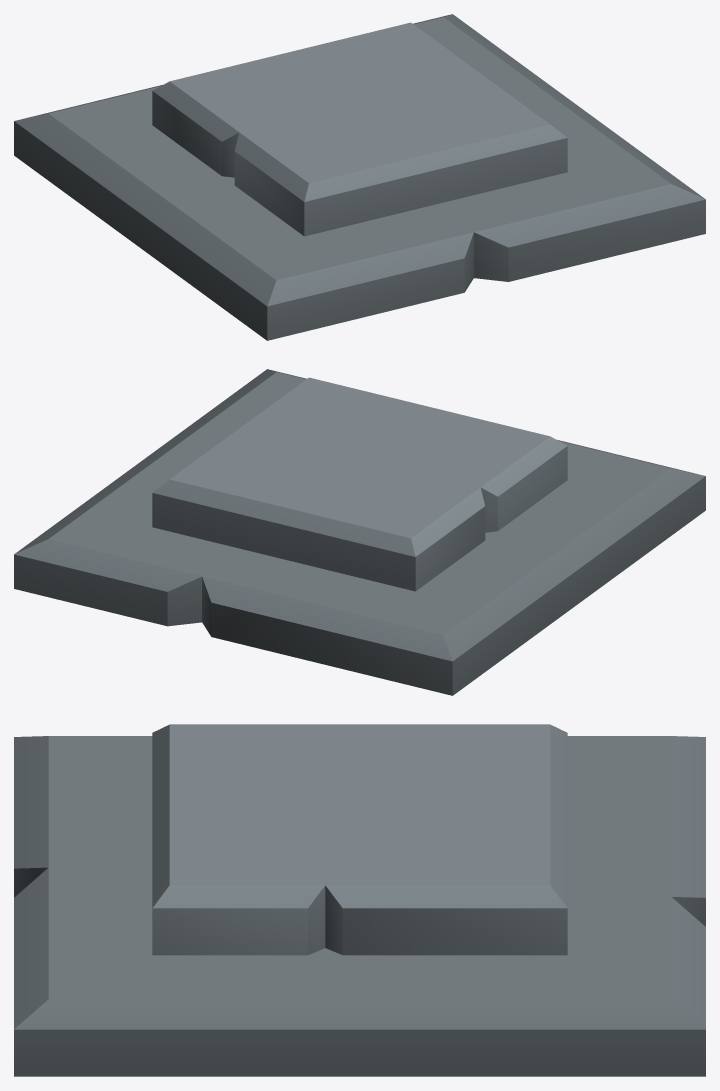
File: plaque.glb
3 views of the same model, one above another, from view 1: azimuth 30°, elevation 25°; view 2: azimuth 150°, elevation 25°; view 3: azimuth 270°, elevation 25° (orthographic). The views are drawn at different scales.
Parts seen in each view (by area): view 1: plaque; view 2: plaque; view 3: plaque.
Boxes of the visible parts, left/top/right/bottom form: plaque: left=14, top=14, right=705, bottom=340; plaque: left=14, top=369, right=705, bottom=695; plaque: left=14, top=724, right=705, bottom=1076.
Bounding box in the file's own units: 2 × 0.4 × 2.
Materials: 1 (1 with a texture image).
